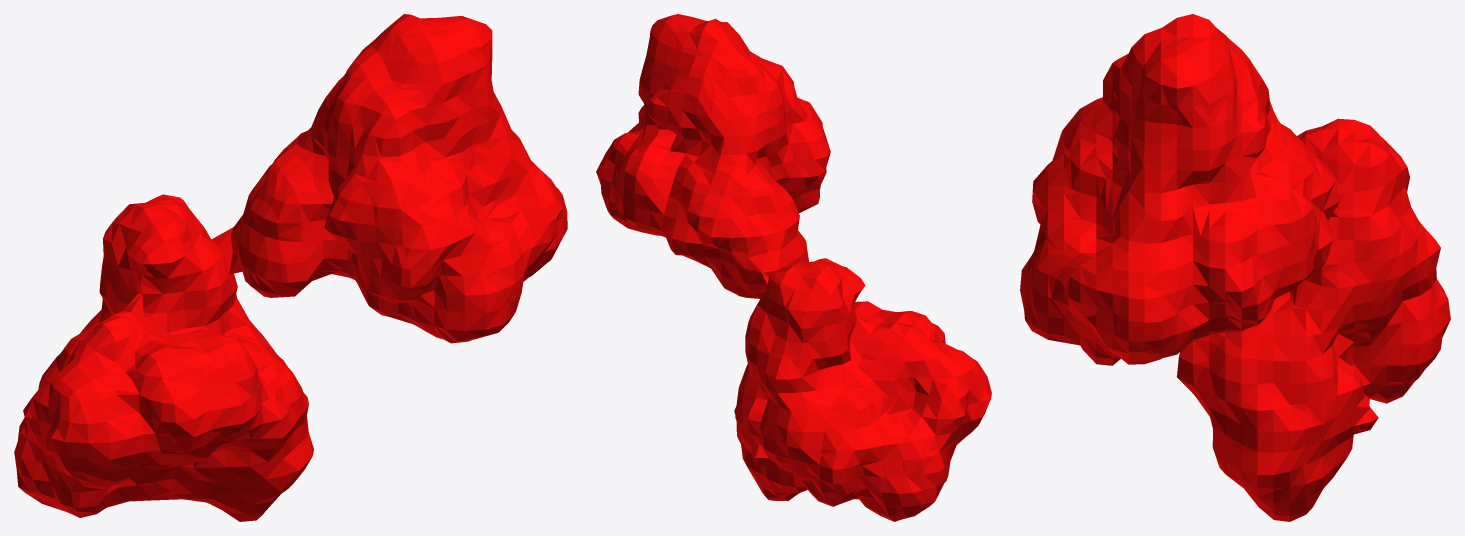
File: dxs_coarse.dae
The picture shows the model from 3 angles, left to right: view 1: azimuth 30°, elevation 25°; view 2: azimuth 150°, elevation 25°; view 3: azimuth 270°, elevation 25°; orthographic projection. The views are drawn at different scales.
Visible parts, largest first — view 1: dxs; view 2: dxs; view 3: dxs.
Boxes of the visible parts, bbox=[...] form: dxs: bbox=[14, 14, 567, 521]; dxs: bbox=[596, 14, 991, 521]; dxs: bbox=[1020, 14, 1450, 521].
Size of the model in its own units: 152 by 154 by 105.
